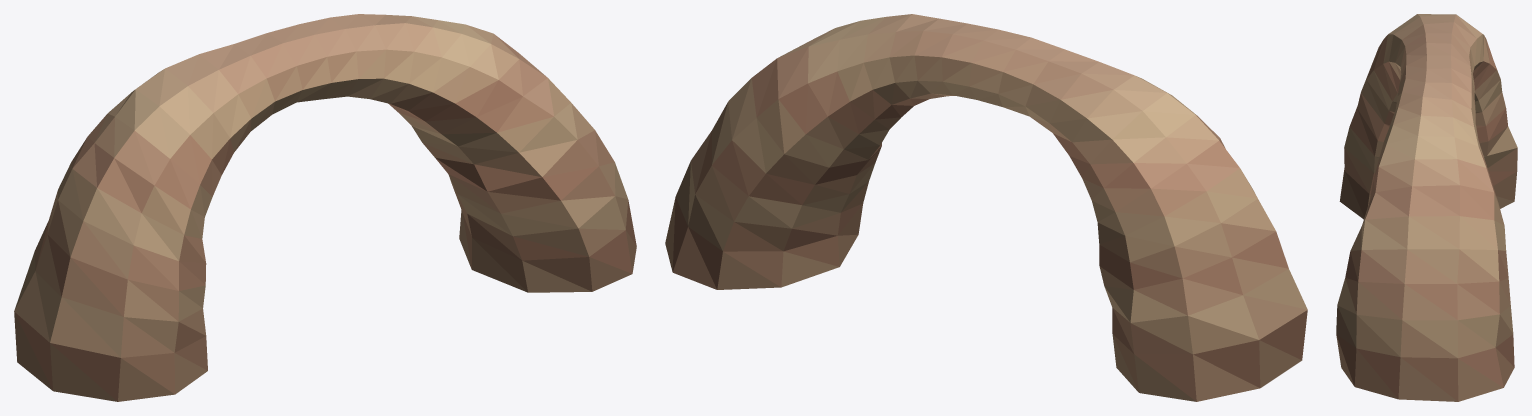
The model's file is arch_2.glb.
3 renders of one model, left to right at view 1: azimuth 30°, elevation 25°; view 2: azimuth 150°, elevation 25°; view 3: azimuth 270°, elevation 25°, orthographic. The views are drawn at different scales.
Visible parts, largest first — view 1: rock; view 2: rock; view 3: rock.
Part boxes in pixels (x1,y1,x2,y2): rock: [14, 14, 636, 401]; rock: [665, 14, 1307, 401]; rock: [1336, 14, 1517, 401].
Bounding box in the file's own units: 21.49 × 9.42 × 6.96.
